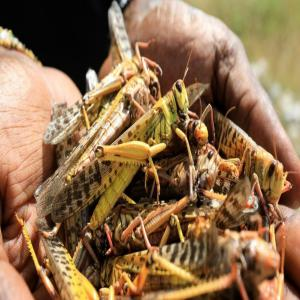locust: (64, 57, 197, 265)
